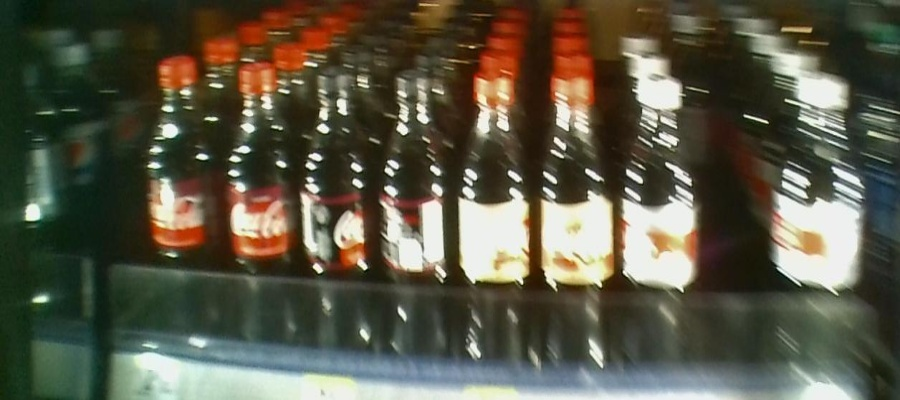bottle: (778, 75, 868, 374), (456, 57, 533, 390), (621, 59, 696, 381), (538, 66, 614, 381), (220, 57, 299, 353), (378, 65, 451, 376), (144, 54, 220, 347), (302, 61, 376, 361)
